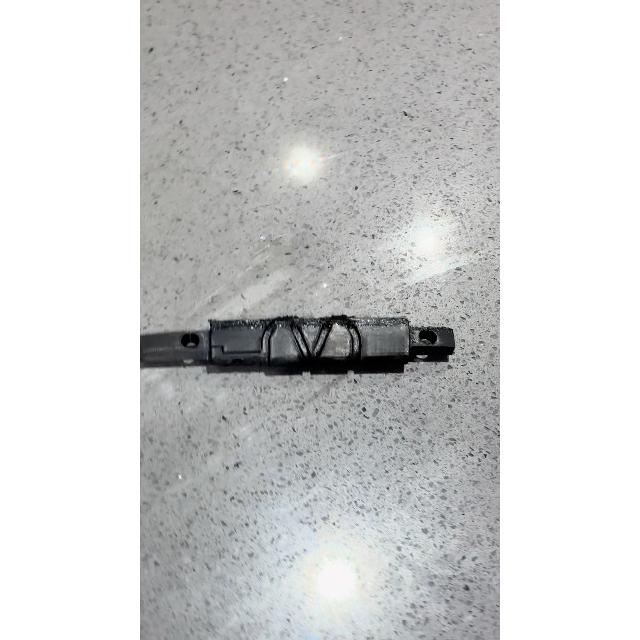Pieza_1: (142, 300, 474, 388)
